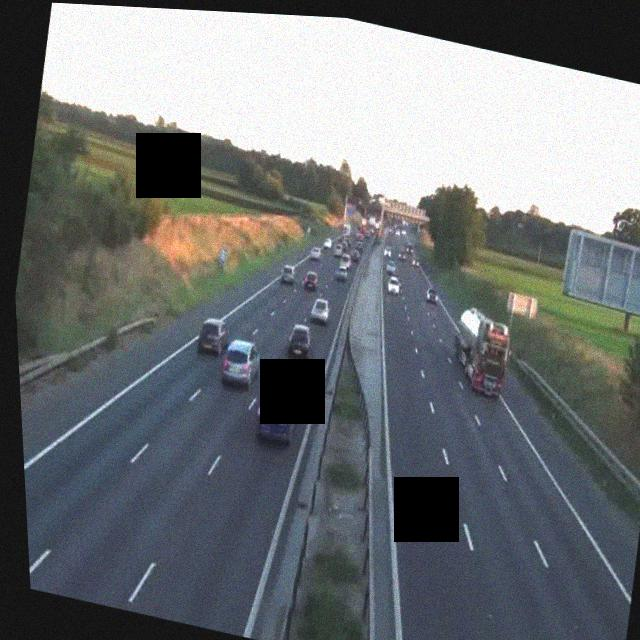car: (252, 369, 307, 446), (218, 335, 264, 390), (194, 315, 230, 357), (284, 320, 316, 361), (308, 295, 331, 325), (278, 264, 296, 285), (302, 269, 319, 290), (385, 273, 402, 294), (334, 262, 350, 283), (424, 283, 439, 304), (384, 260, 398, 277), (307, 246, 320, 261), (348, 248, 359, 262), (381, 246, 391, 259), (410, 254, 420, 266)
truck: (448, 306, 517, 399)
